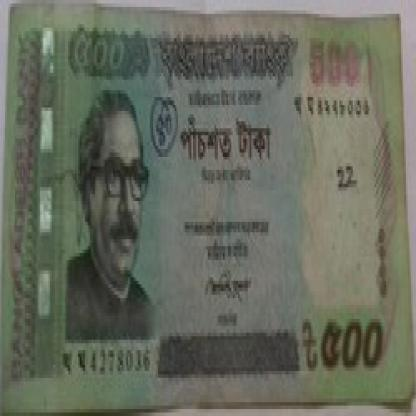500 taka: (170, 111, 288, 170), (57, 21, 153, 90)
currency: (5, 3, 409, 392)
